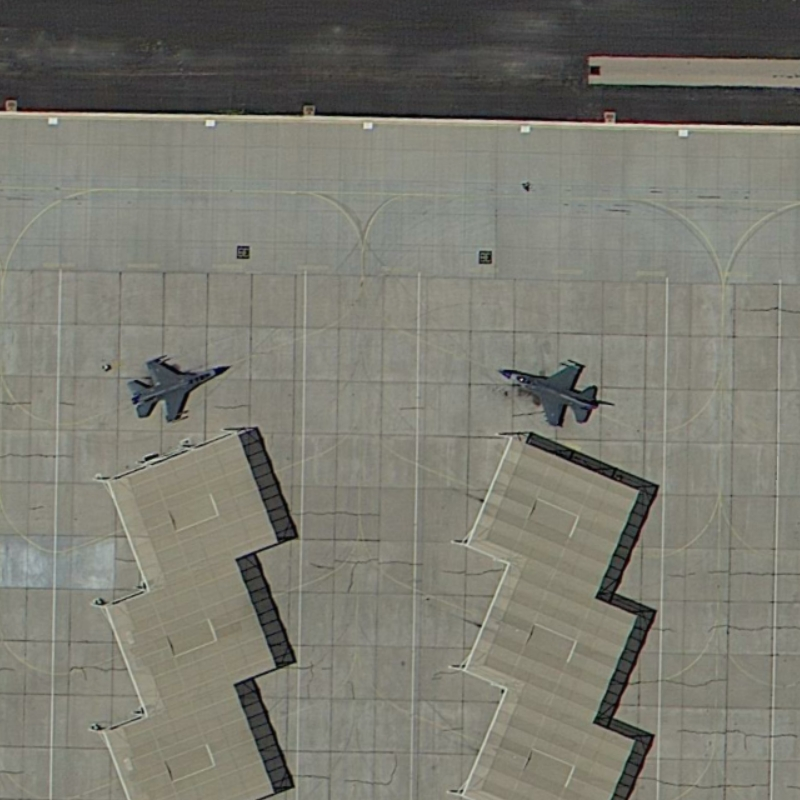A5: (493, 350, 606, 433), (121, 351, 234, 428)
